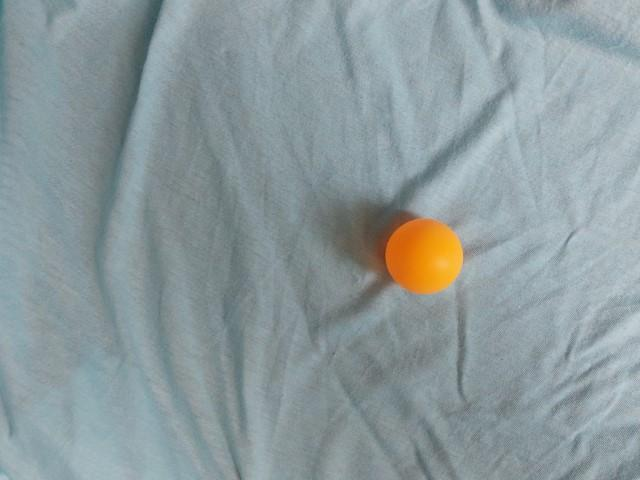oball: (169, 179, 261, 270)
